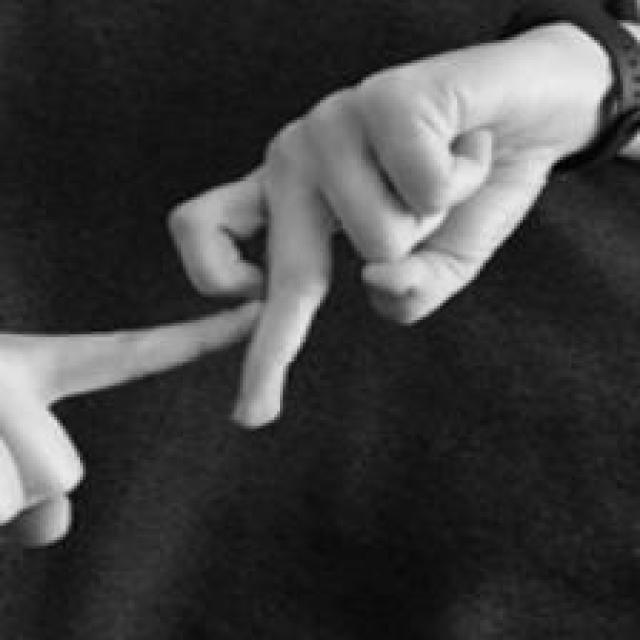R: (0, 19, 596, 554)
